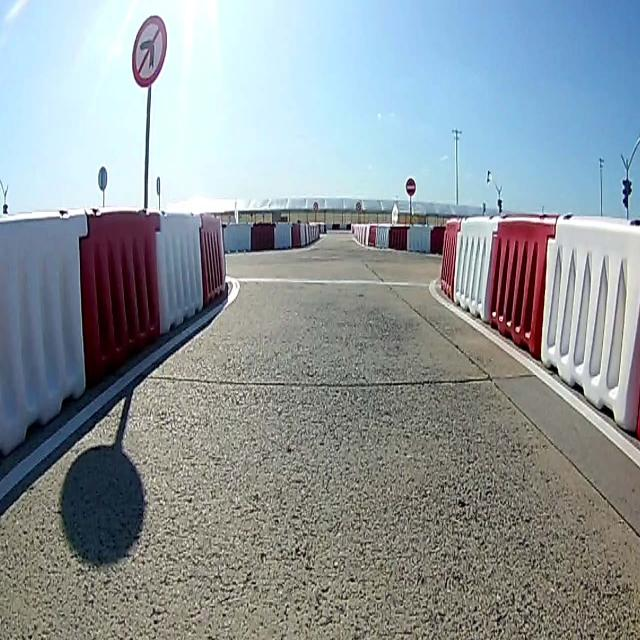girisyok: (405, 174, 414, 198)
soladonulmez: (132, 11, 166, 89)
